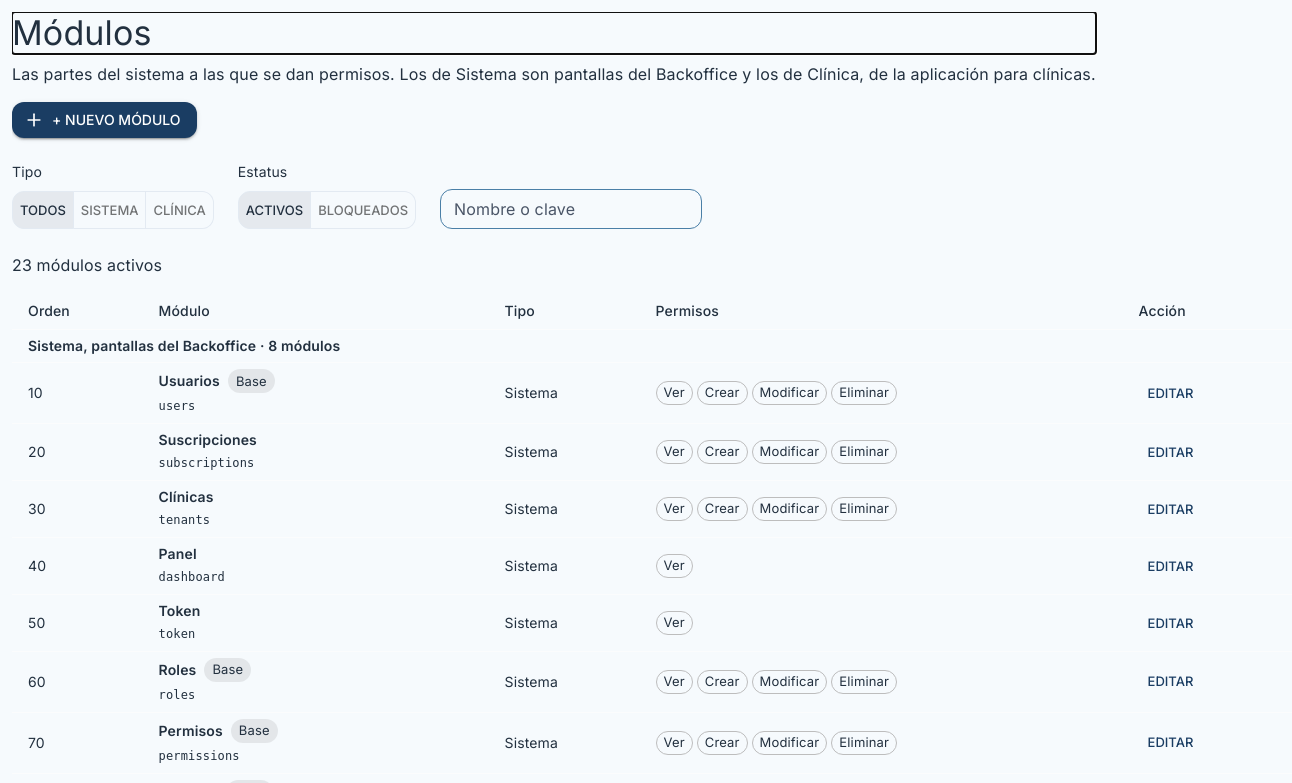
Test: ModulesPage › shows a dedicated empty state for a search without matches
Check: the text "23 módulos activos" is shown, box [12, 255, 162, 275]
Type "zzz" into the field labelled "Nombre o clave".
click(571, 209); type("zzz")  # box [440, 189, 702, 229]
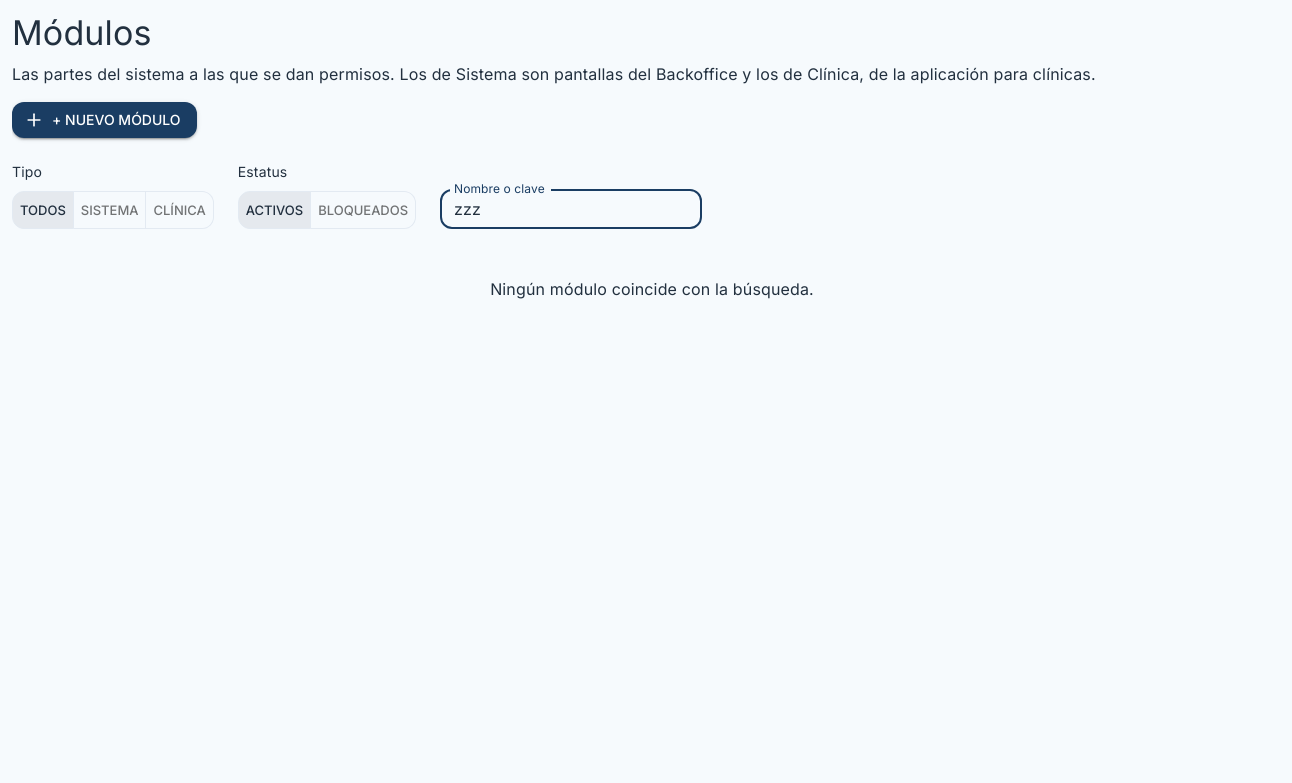
Check: the text "Ningún módulo coincide con la búsqueda." is shown, box [490, 277, 814, 301]
